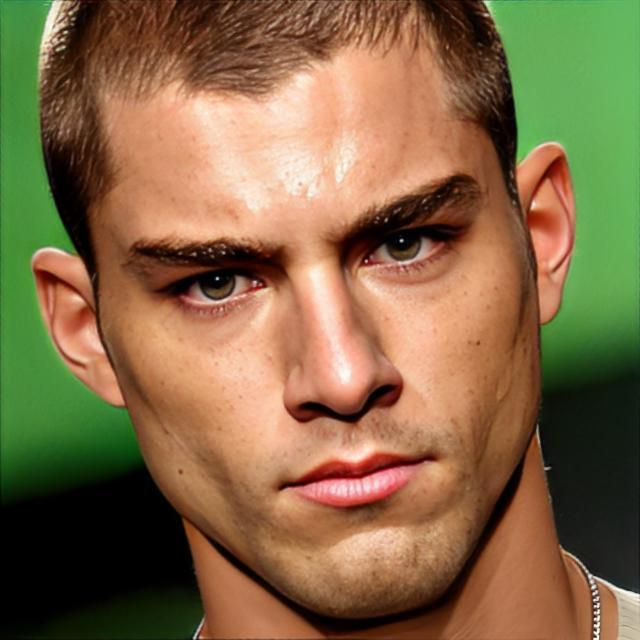anger: (104, 48, 526, 619)
